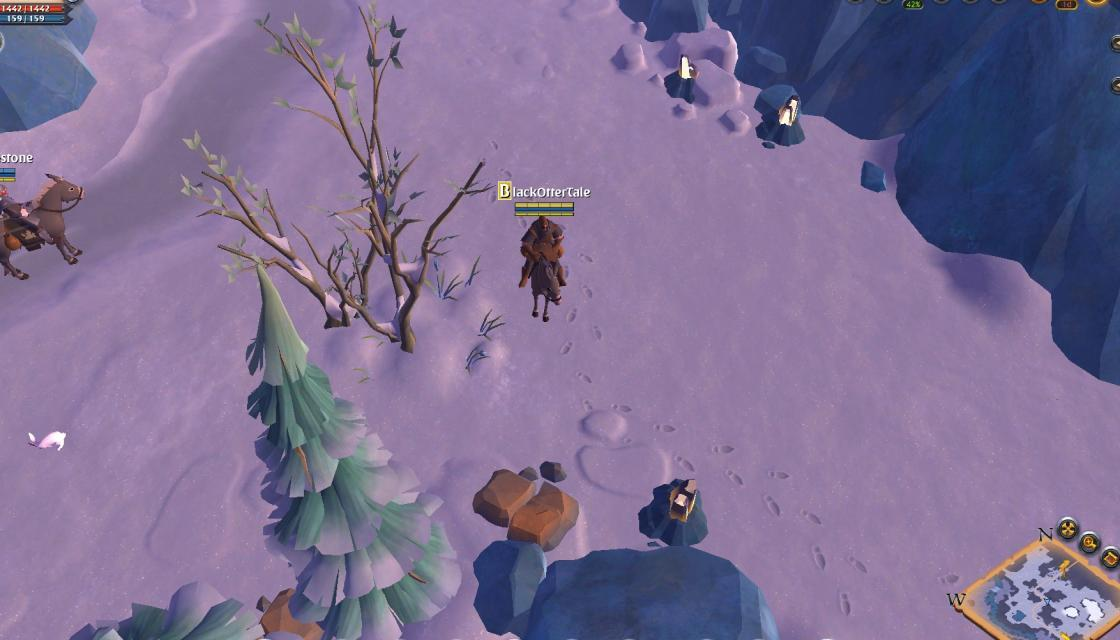copperore: (644, 470, 708, 548), (758, 94, 805, 148), (666, 50, 707, 103)
limestone: (468, 462, 582, 556), (252, 590, 332, 640)
